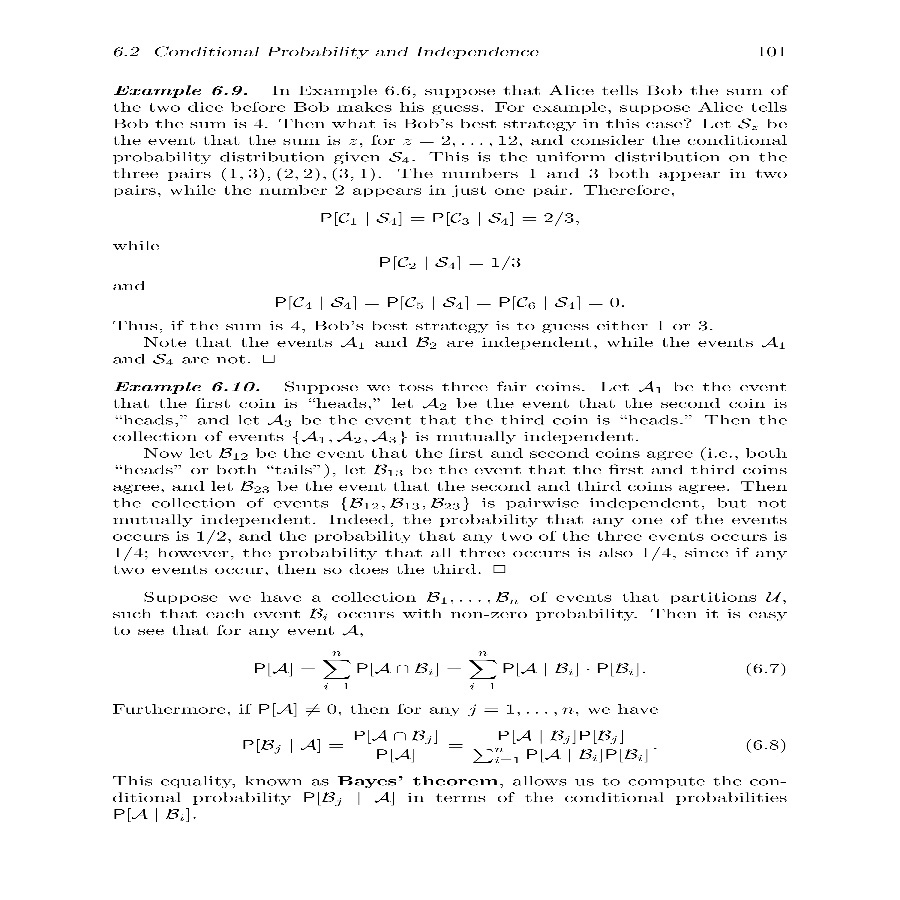eq: (241, 727, 651, 768), (249, 648, 644, 690), (268, 292, 621, 310), (319, 208, 574, 228), (378, 252, 527, 274)
